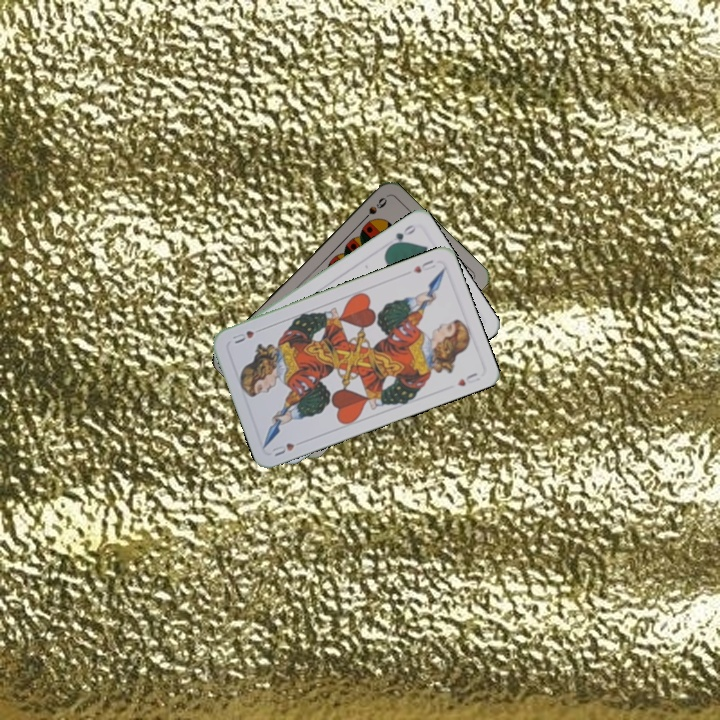GO: (384, 220, 419, 250)
HU: (268, 438, 297, 459), (409, 256, 438, 276)
S9: (357, 193, 390, 225)
